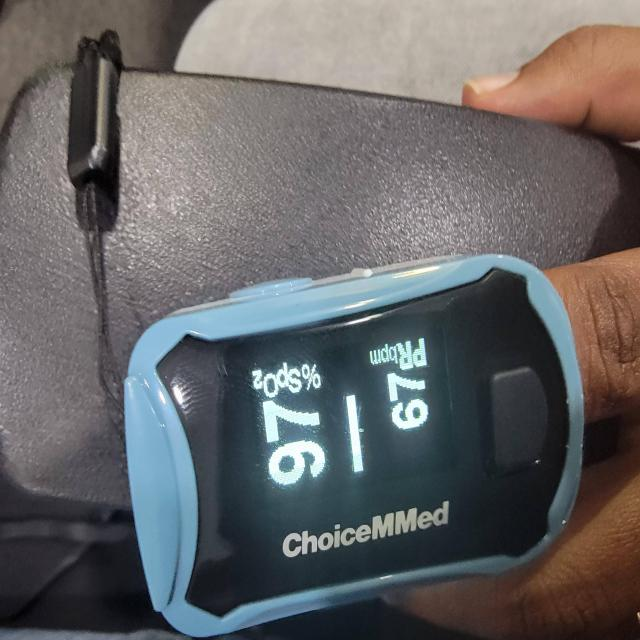spo2: (122, 255, 587, 640)
